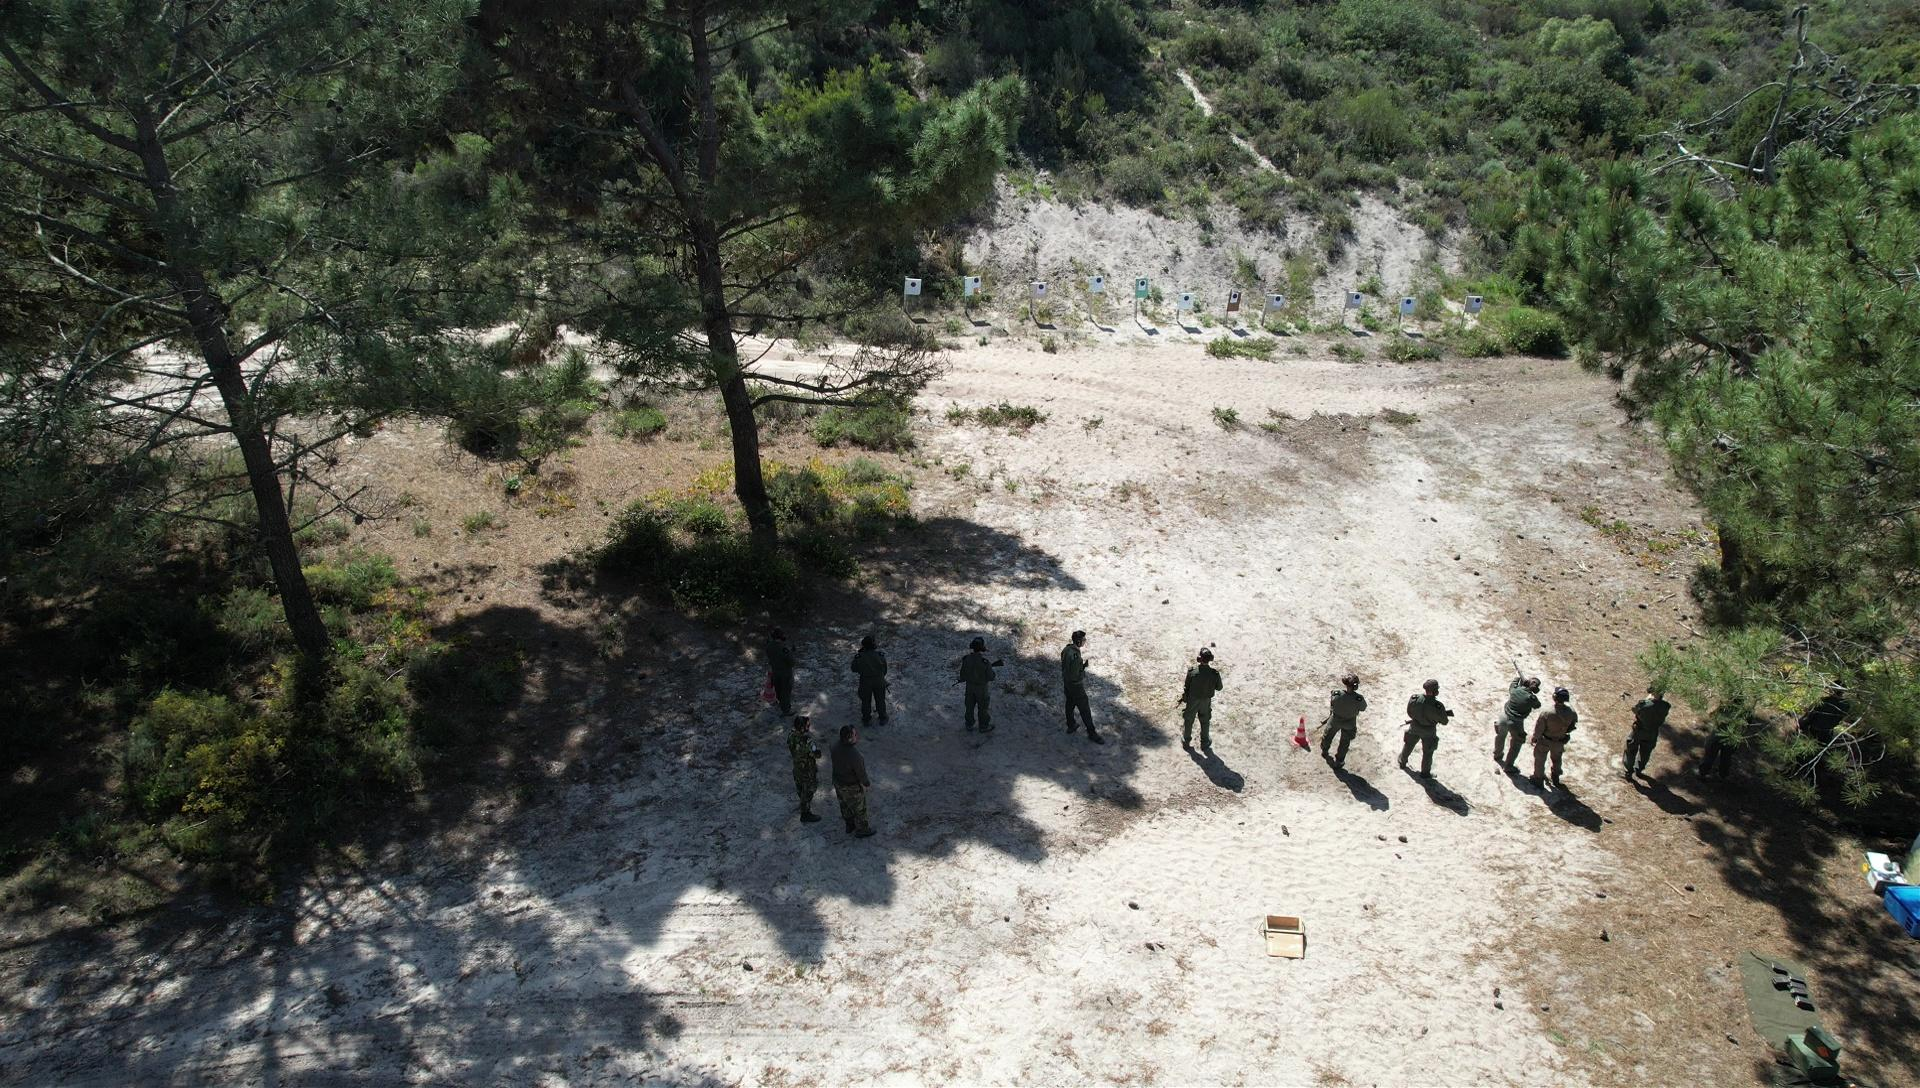Soldier: (1047, 626, 1113, 769), (1168, 636, 1232, 761), (822, 719, 880, 845), (782, 702, 836, 831), (1316, 671, 1371, 795), (1399, 670, 1455, 791), (1527, 683, 1584, 799), (1495, 654, 1543, 793), (843, 637, 903, 735), (951, 630, 1004, 742), (1626, 682, 1672, 798), (756, 622, 804, 711)
